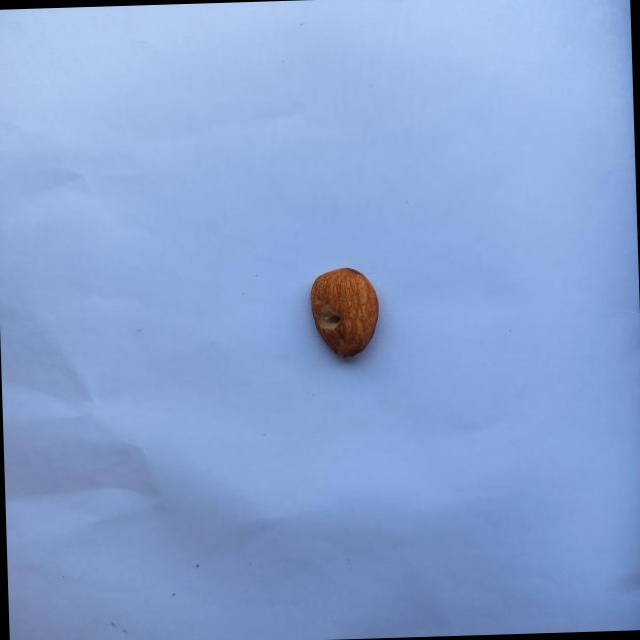grade3: (304, 263, 382, 364)
